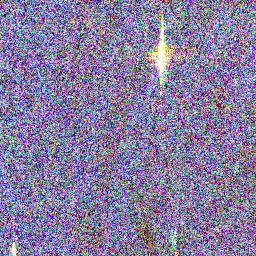Ship: (152, 40, 169, 74), (7, 238, 23, 255)
